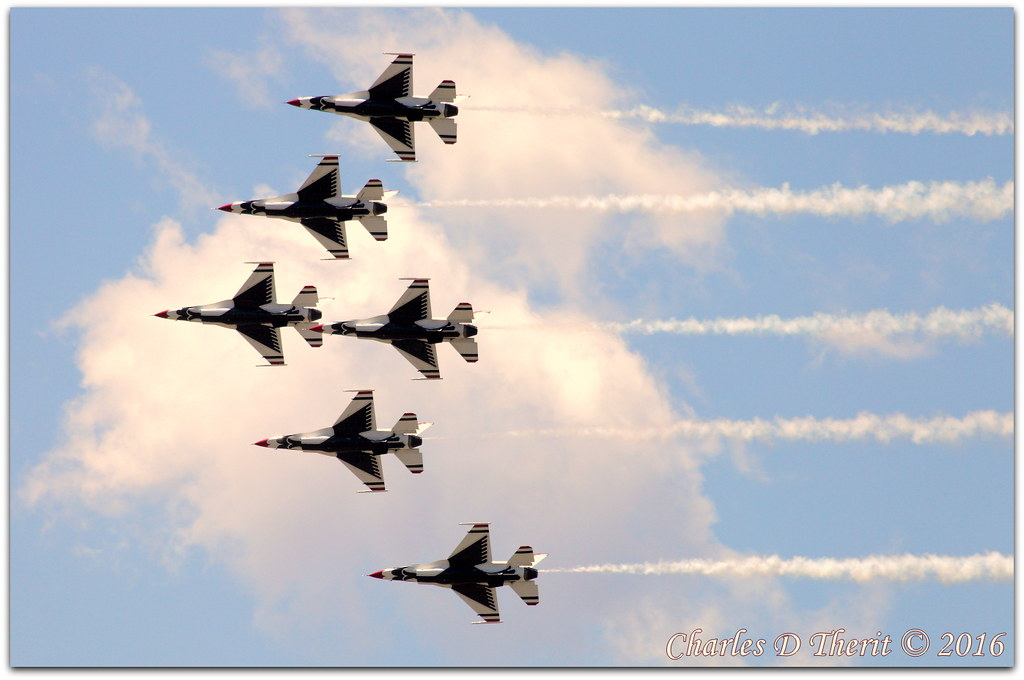plane: (270, 49, 461, 162), (368, 517, 543, 627), (250, 388, 428, 493), (211, 155, 389, 258), (310, 274, 479, 382), (149, 263, 320, 364)
